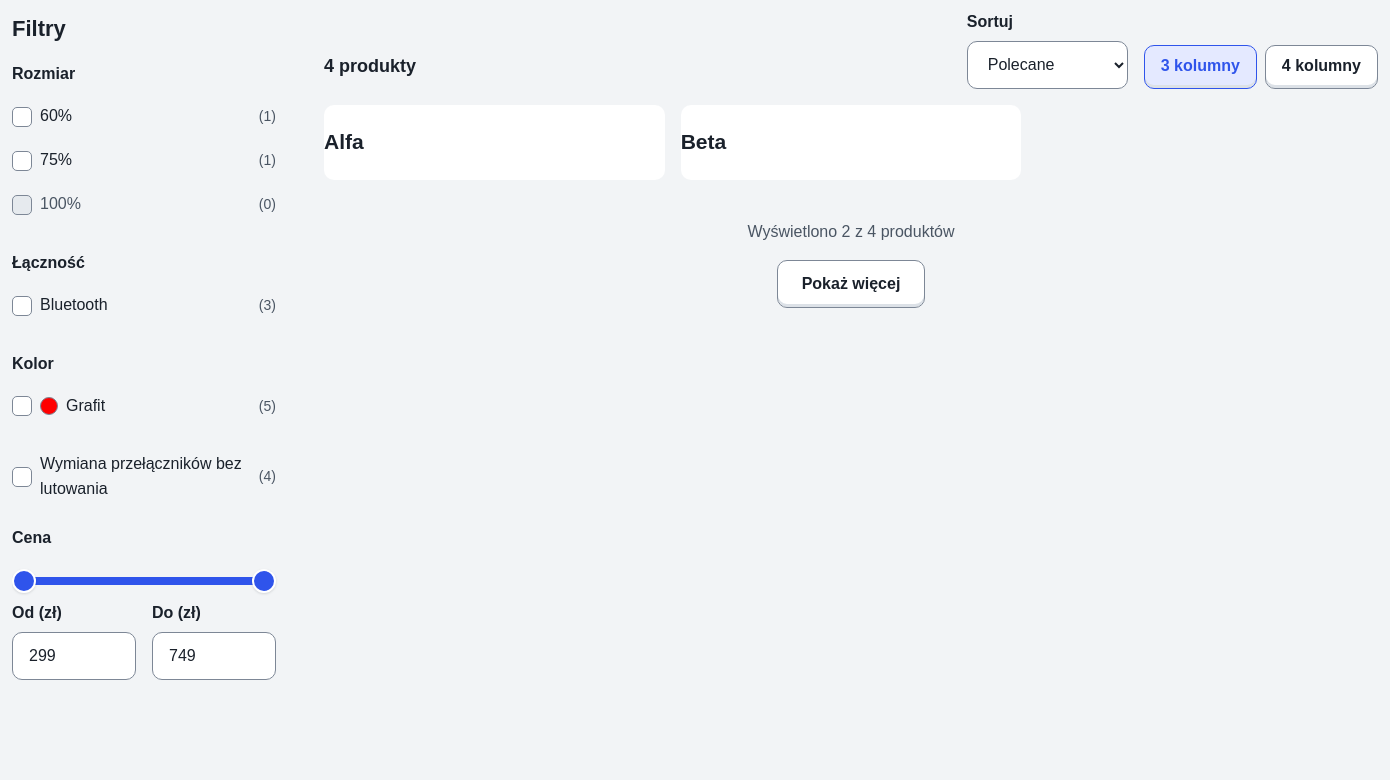
Test: ListingShell › blad pobrania 'Pokaz wiecej' pokazuje komunikat i zostawia przycisk
Click the button "Pokaż więcej" at (851, 284), box [777, 260, 925, 308]
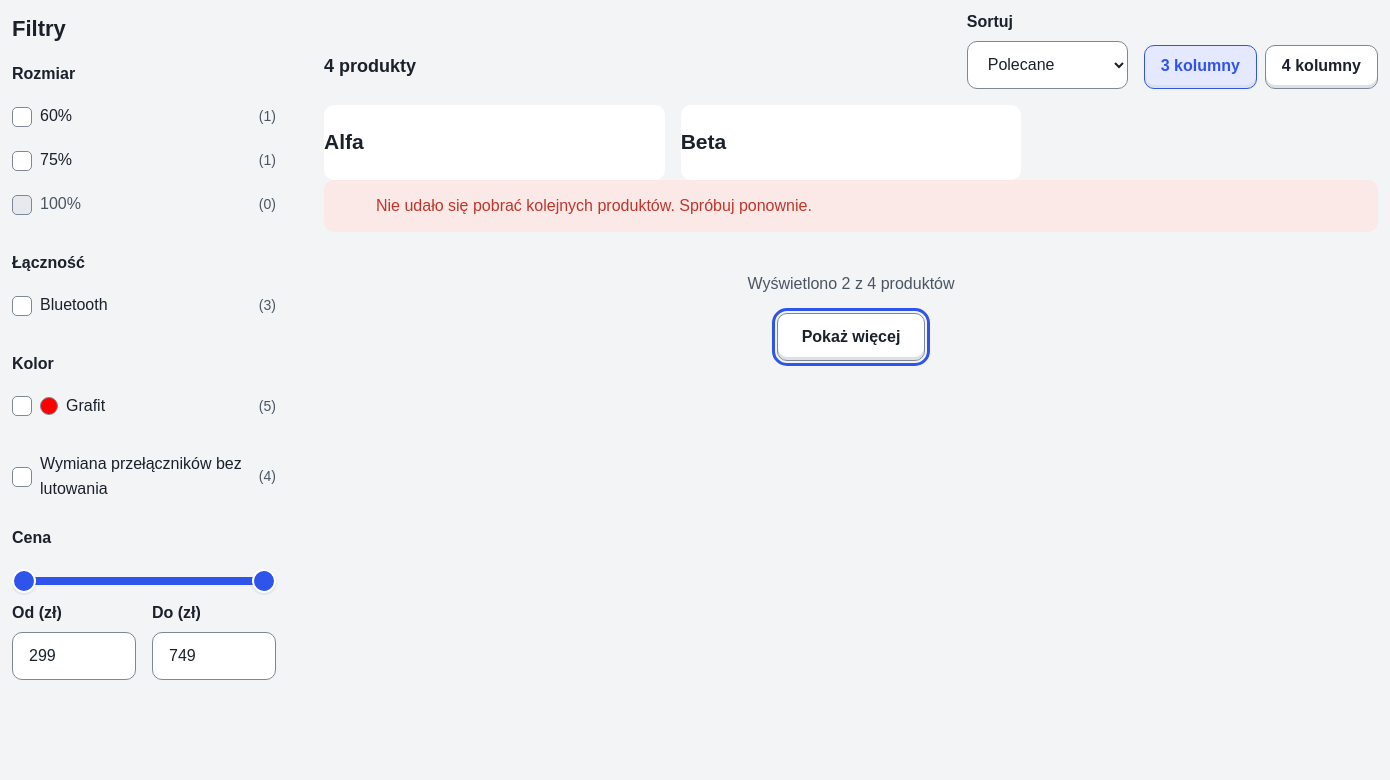
Expected: the button "Pokaż więcej" is shown, [777, 313, 925, 361]
Expected: the text "Nie udało się pobrać kolejnych produktów. Spróbuj ponownie." is shown, [376, 196, 812, 214]
